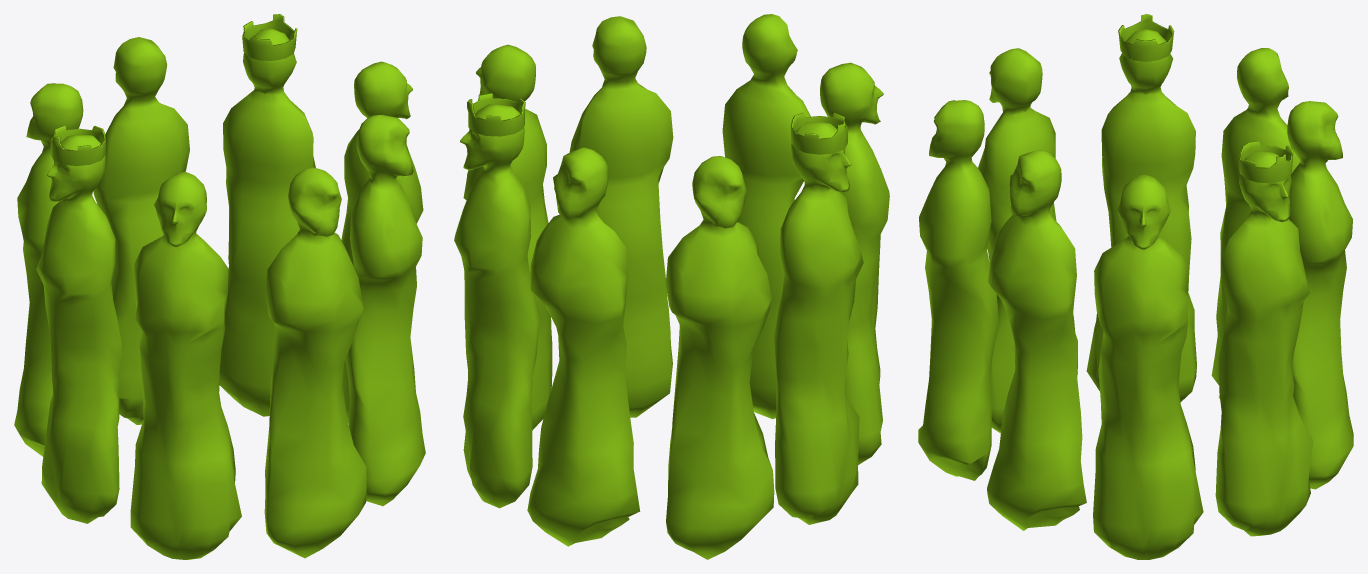
The model's file is Statues_Grp_04_Lod0.fbx.
The picture shows the model from 3 angles, left to right: view 1: azimuth 30°, elevation 25°; view 2: azimuth 150°, elevation 25°; view 3: azimuth 270°, elevation 25°; orthographic projection. The views are drawn at different scales.
Visible parts, largest first — view 1: Statues_Grp_04_Lod0; view 2: Statues_Grp_04_Lod0; view 3: Statues_Grp_04_Lod0.
Part boxes in pixels (left/top/right/bottom): Statues_Grp_04_Lod0: left=14, top=14, right=425, bottom=559; Statues_Grp_04_Lod0: left=454, top=14, right=889, bottom=559; Statues_Grp_04_Lod0: left=918, top=14, right=1353, bottom=559.
Bounding box in the file's own units: 215 × 215 × 219.
